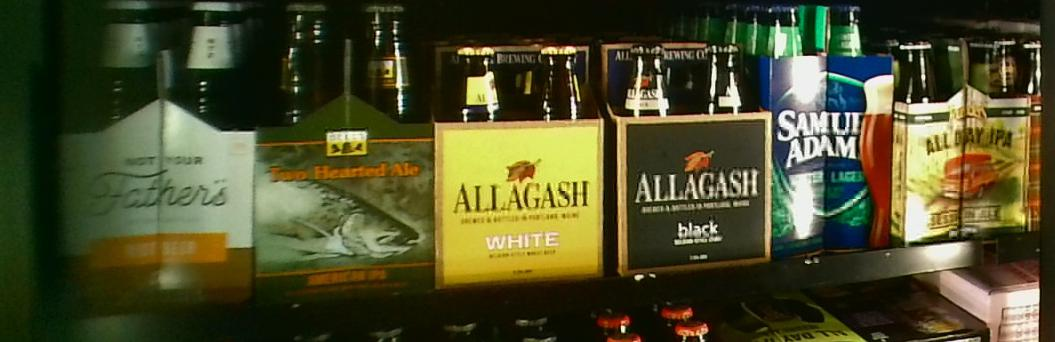bottle: (58, 1, 253, 306), (253, 2, 436, 298), (438, 38, 603, 279), (606, 34, 761, 270), (758, 6, 893, 250), (902, 36, 1038, 228)
